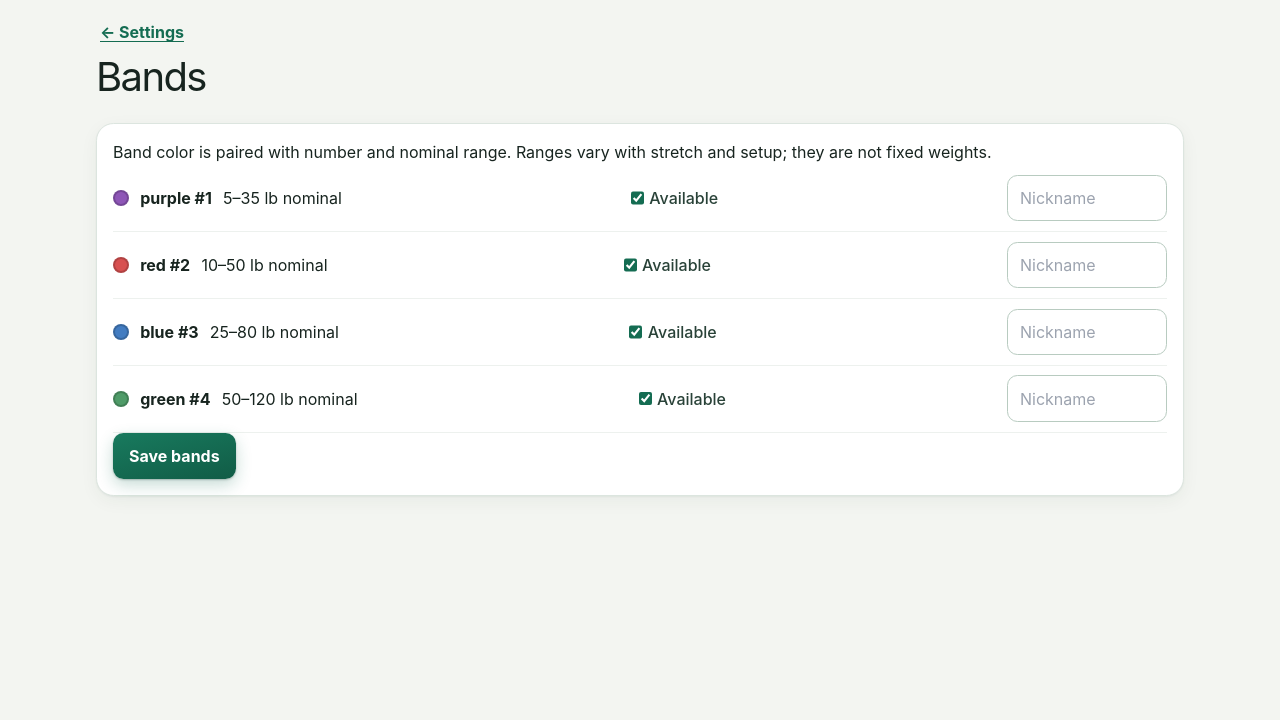
Test: Settings component flows › covers band availability selection and save
This screenshot has width=1280, height=720.
Click the checkbox labelled "Available" in the row of "35". click: coordinates (637, 198)
box: [631, 188, 644, 208]
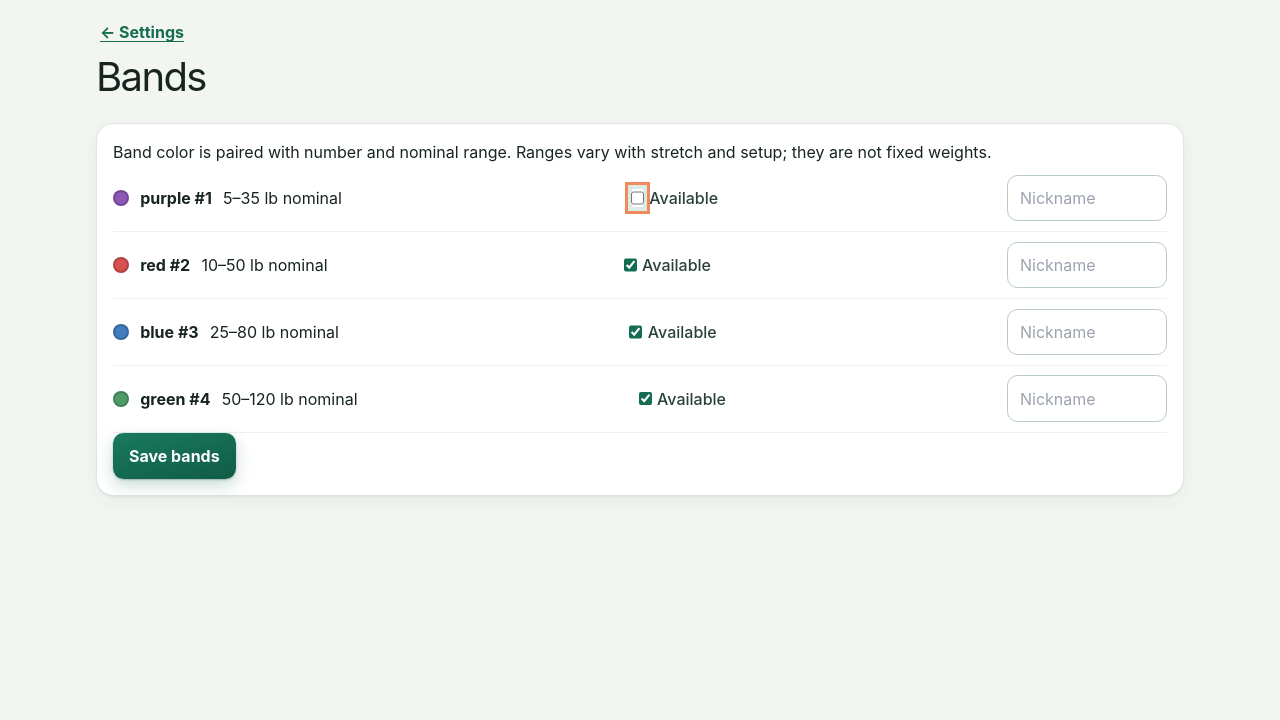
Click the button "Save bands". click: coordinates (174, 456)
box: [113, 433, 236, 479]
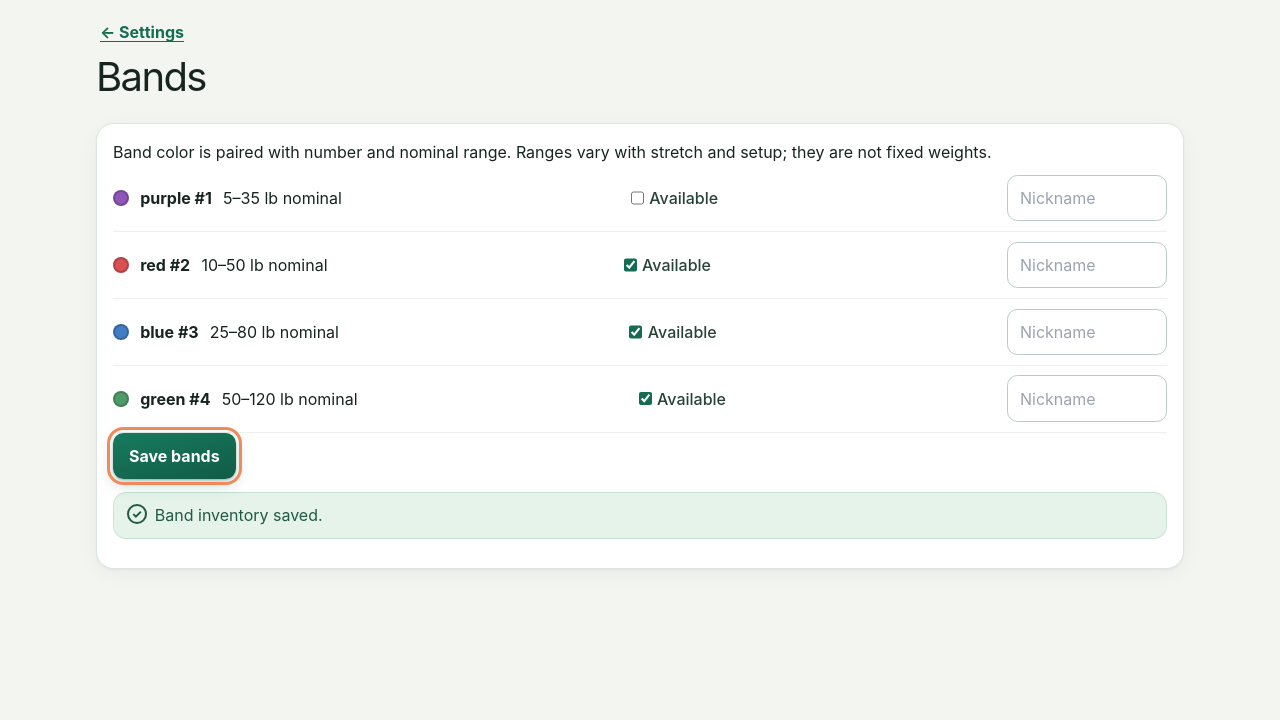
Expected: the text "Band inventory saved." is shown, [155, 504, 323, 527]
